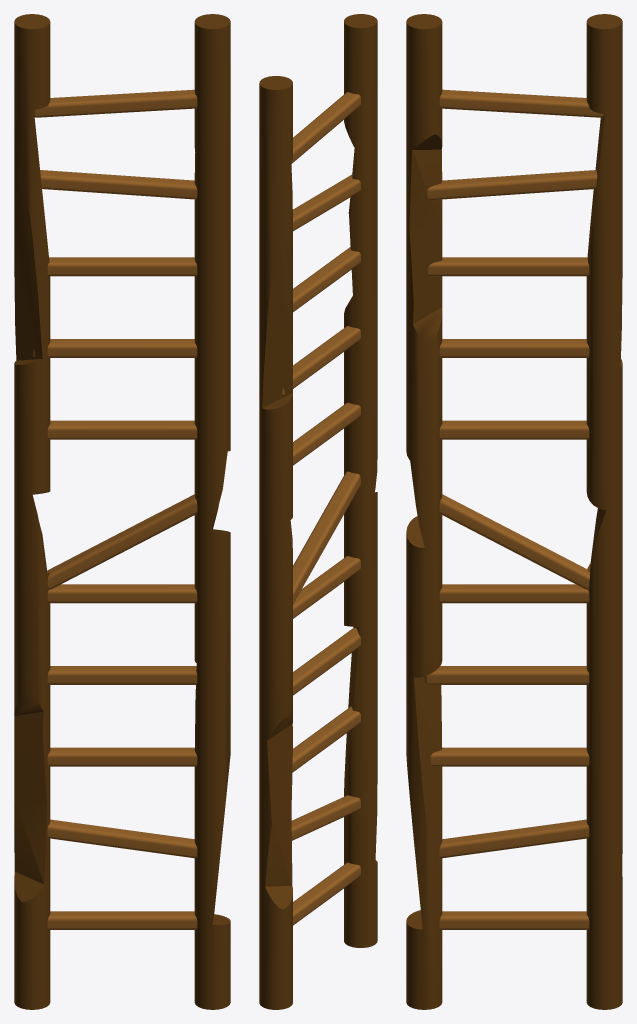
Rendered from Ladder.fbx.
The picture shows the model from 3 angles, left to right: view 1: azimuth 90°, elevation 25°; view 2: azimuth 150°, elevation 25°; view 3: azimuth 270°, elevation 25°; orthographic projection. The views are drawn at different scales.
Visible parts, largest first — view 1: pCylinder2, pCylinder3, pCube10, pCube14, pCube15, pCube13, pCube7, pCube11, pCube9, pCube6, pCube12, pCube8 (+1 smaller); view 2: pCylinder2, pCylinder3, pCube10, pCube15, pCube8, pCube7, pCube12, pCube13, pCube5, pCube11, pCube9, pCube14 (+1 smaller); view 3: pCylinder2, pCylinder3, pCube14, pCube10, pCube13, pCube7, pCube8, pCube15, pCube11, pCube9, pCube6, pCube5 (+1 smaller).
Boxes of the visible parts, bbox=[...] form: pCylinder2: bbox=[14, 14, 50, 1009]; pCylinder3: bbox=[194, 14, 230, 1009]; pCube10: bbox=[47, 494, 197, 589]; pCube14: bbox=[40, 170, 197, 199]; pCube15: bbox=[34, 89, 197, 117]; pCube13: bbox=[47, 257, 197, 276]; pCube7: bbox=[47, 747, 197, 766]; pCube11: bbox=[47, 420, 197, 439]; pCube9: bbox=[47, 584, 197, 603]; pCube6: bbox=[47, 819, 197, 858]; pCube12: bbox=[32, 339, 197, 357]; pCube8: bbox=[47, 666, 197, 684]; pCylinder2: bbox=[259, 76, 292, 1009]; pCylinder3: bbox=[344, 14, 377, 947]; pCube10: bbox=[293, 471, 360, 603]; pCube15: bbox=[291, 92, 360, 163]; pCube8: bbox=[293, 628, 360, 695]; pCube7: bbox=[292, 706, 360, 772]; pCube12: bbox=[281, 326, 360, 395]; pCube13: bbox=[293, 247, 360, 311]; pCube5: bbox=[293, 862, 360, 925]; pCube11: bbox=[293, 402, 360, 465]; pCube9: bbox=[293, 556, 360, 618]; pCube14: bbox=[293, 174, 360, 231]; pCylinder2: bbox=[586, 14, 622, 1009]; pCylinder3: bbox=[406, 14, 442, 1009]; pCube14: bbox=[427, 170, 597, 199]; pCube10: bbox=[439, 494, 589, 589]; pCube13: bbox=[428, 257, 589, 276]; pCube7: bbox=[430, 747, 589, 766]; pCube8: bbox=[424, 666, 589, 684]; pCube15: bbox=[439, 89, 603, 117]; pCube11: bbox=[439, 420, 589, 439]; pCube9: bbox=[439, 584, 589, 603]; pCube6: bbox=[439, 819, 589, 858]; pCube5: bbox=[439, 911, 589, 929].
Size of the model in its own units: 0.2 by 6 by 1.2.
